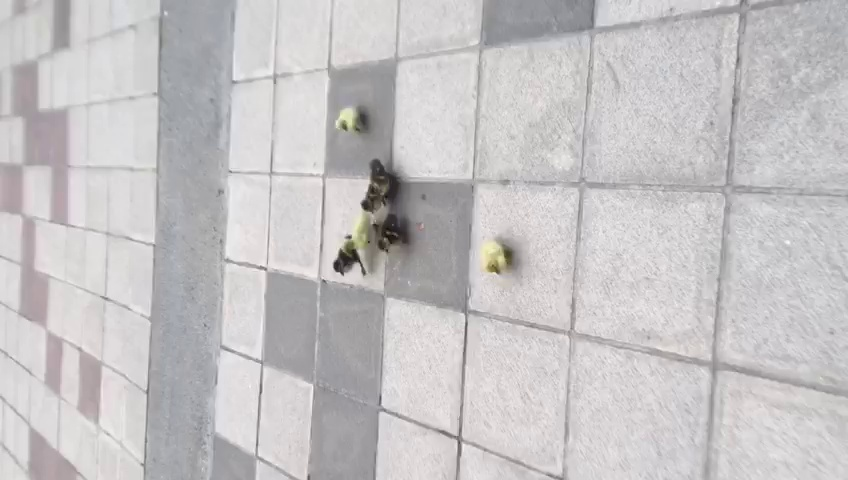patito: (332, 236, 365, 276), (476, 241, 511, 276), (366, 161, 397, 199), (343, 214, 372, 249), (377, 213, 401, 253), (360, 186, 387, 213), (336, 106, 362, 133)
